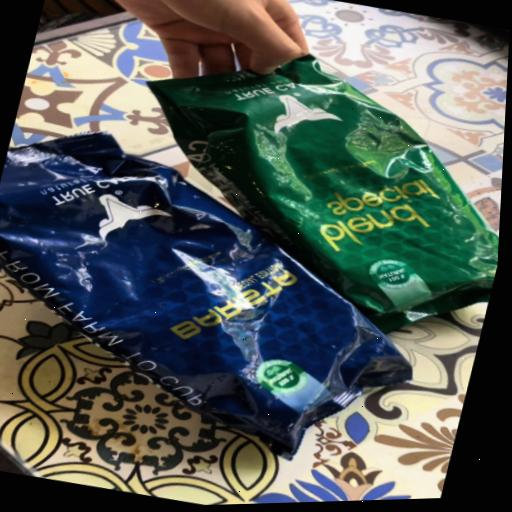cafe_hat: (0, 132, 412, 456)
cafe_xay: (150, 56, 499, 332)
